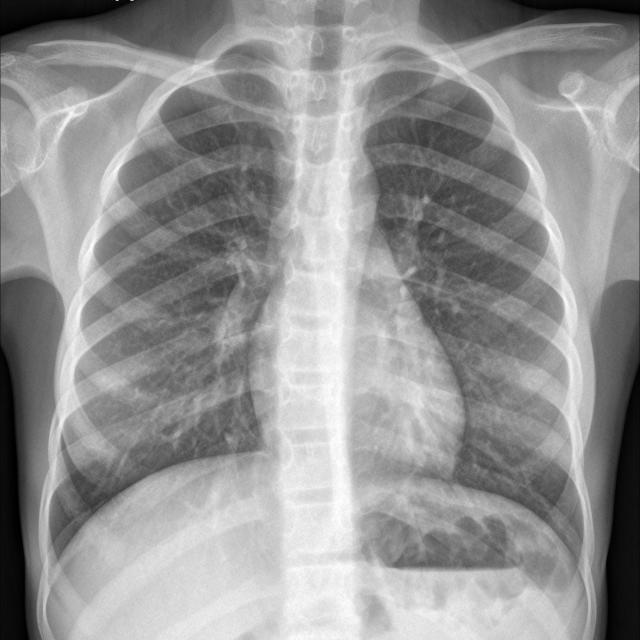no-pneumonia: (51, 67, 292, 554), (365, 70, 584, 559)
